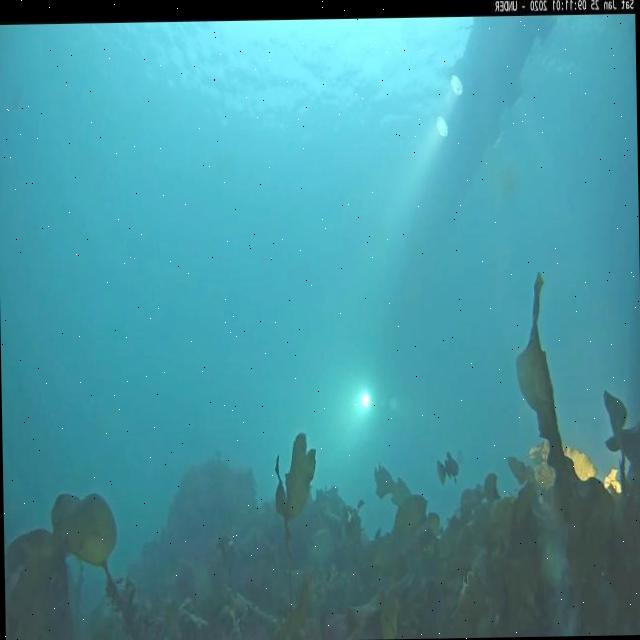fish: (434, 451, 460, 482)
